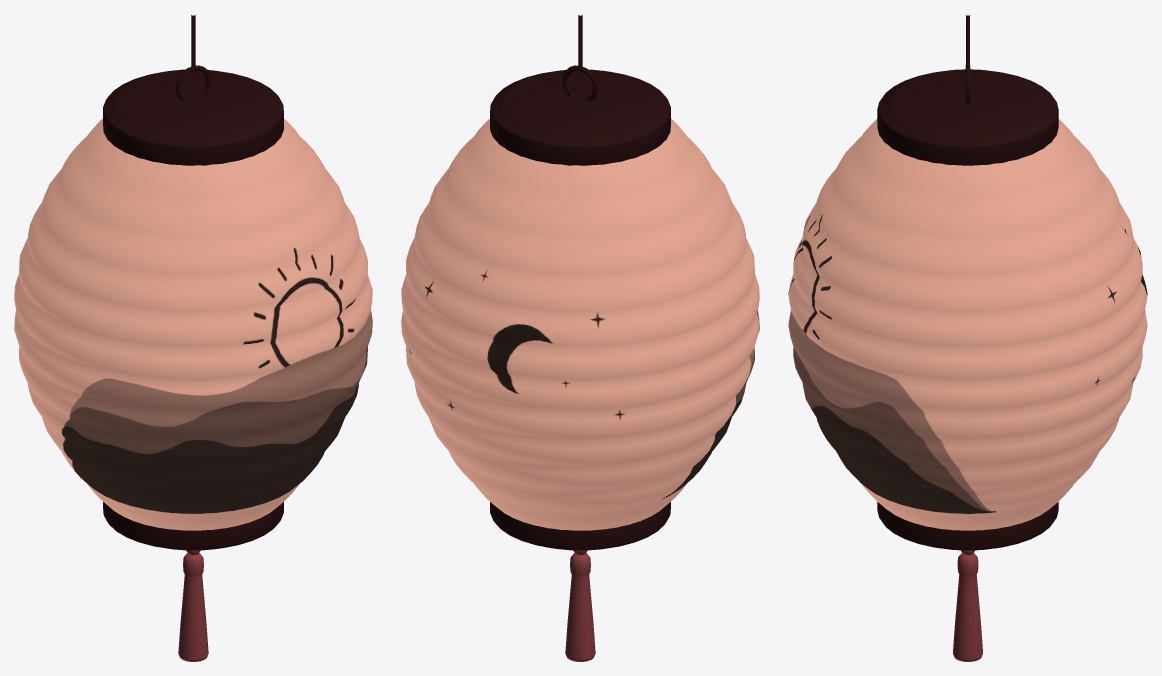
File: lantern.glb
3 renders of one model, left to right at view 1: azimuth 30°, elevation 25°; view 2: azimuth 150°, elevation 25°; view 3: azimuth 270°, elevation 25°, orthographic.
Parts seen in each view (by area): view 1: paper, caps, silk; view 2: paper, caps, silk; view 3: paper, caps, silk.
Boxes of the visible parts, x1=… form: paper: x1=14, y1=118, x2=372, y2=530; caps: x1=103, y1=69, x2=283, y2=550; silk: x1=178, y1=550, x2=208, y2=661; paper: x1=401, y1=118, x2=759, y2=530; caps: x1=490, y1=69, x2=670, y2=550; silk: x1=565, y1=550, x2=595, y2=661; paper: x1=788, y1=119, x2=1147, y2=530; caps: x1=877, y1=69, x2=1058, y2=550; silk: x1=953, y1=550, x2=982, y2=661.
Size of the model in its own units: 0.4853 by 0.956 by 0.4853.
Materials: 4 (1 with a texture image).
